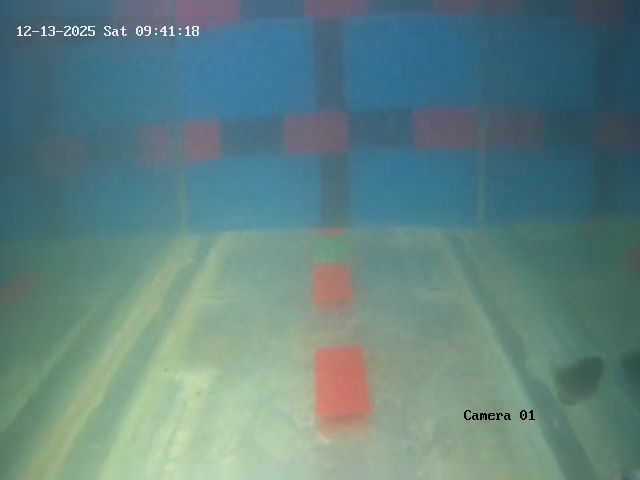fish: (549, 347, 605, 402)
